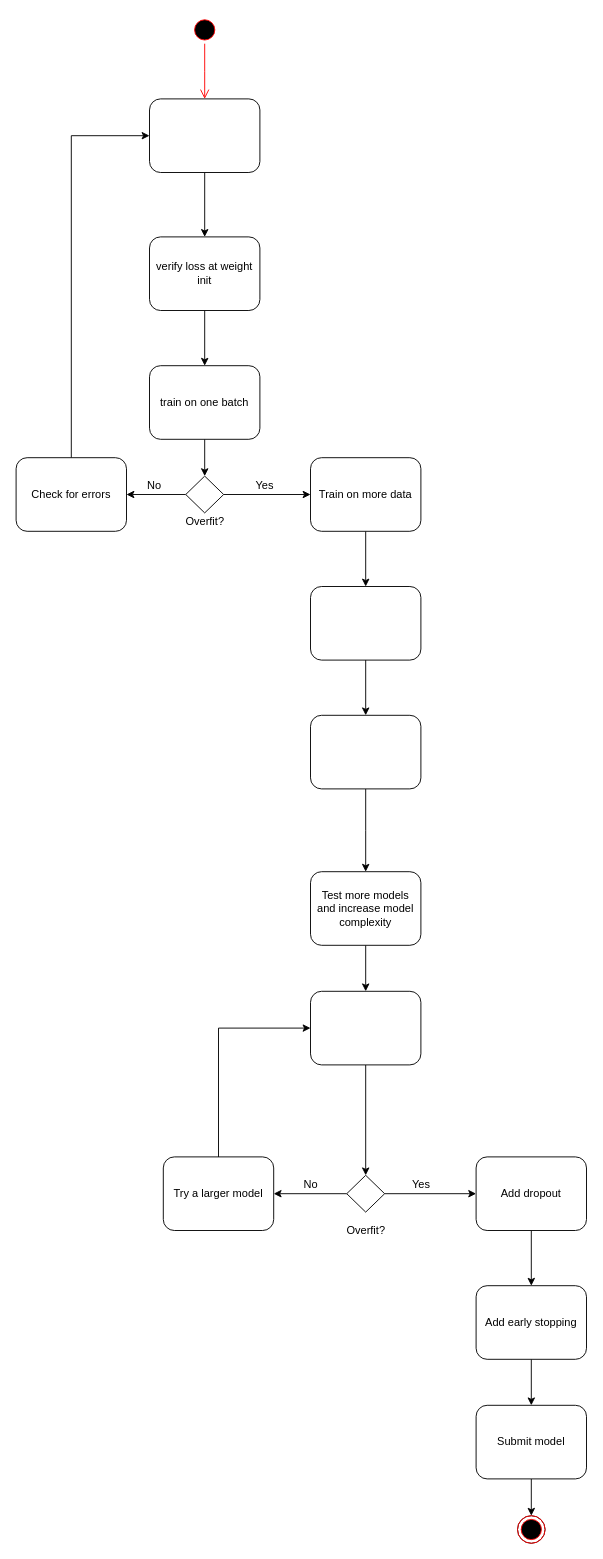
The diagram is 603 pixels wide and 1559 high, and some of its shapes have lost their labels. Here are the shapes that lost their labels. From the top down, the box of each, then its label:
(149, 98, 260, 172): Fix random seed, use a small model and init well
(310, 586, 421, 660): Verify decreasing training loss
(310, 714, 421, 789): Visualize network parameters and prediction dynamics
(310, 990, 421, 1065): Decrease batch size
